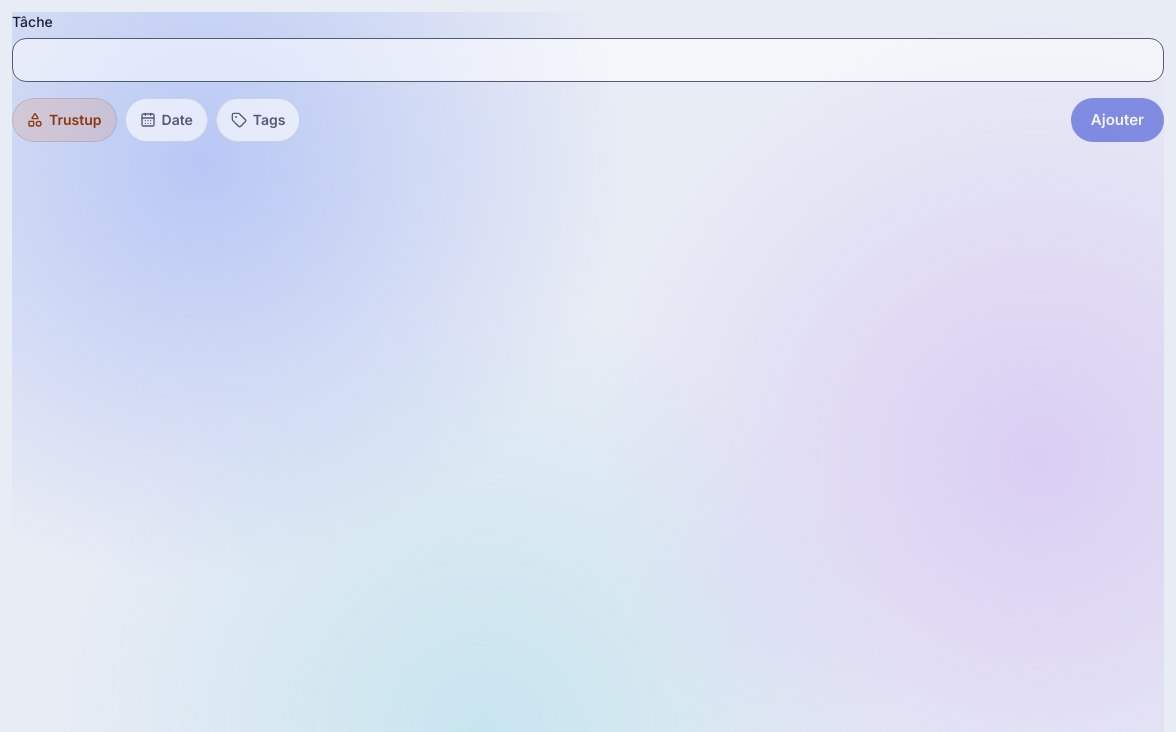
Scenario: ajout rapide : formulaire tâche › refus traduit : saisie conservée, message du code
Type "Relancer le devis" into the field labelled "Tâche" at [588, 60], box x1=12 y1=38 x2=1164 y2=82
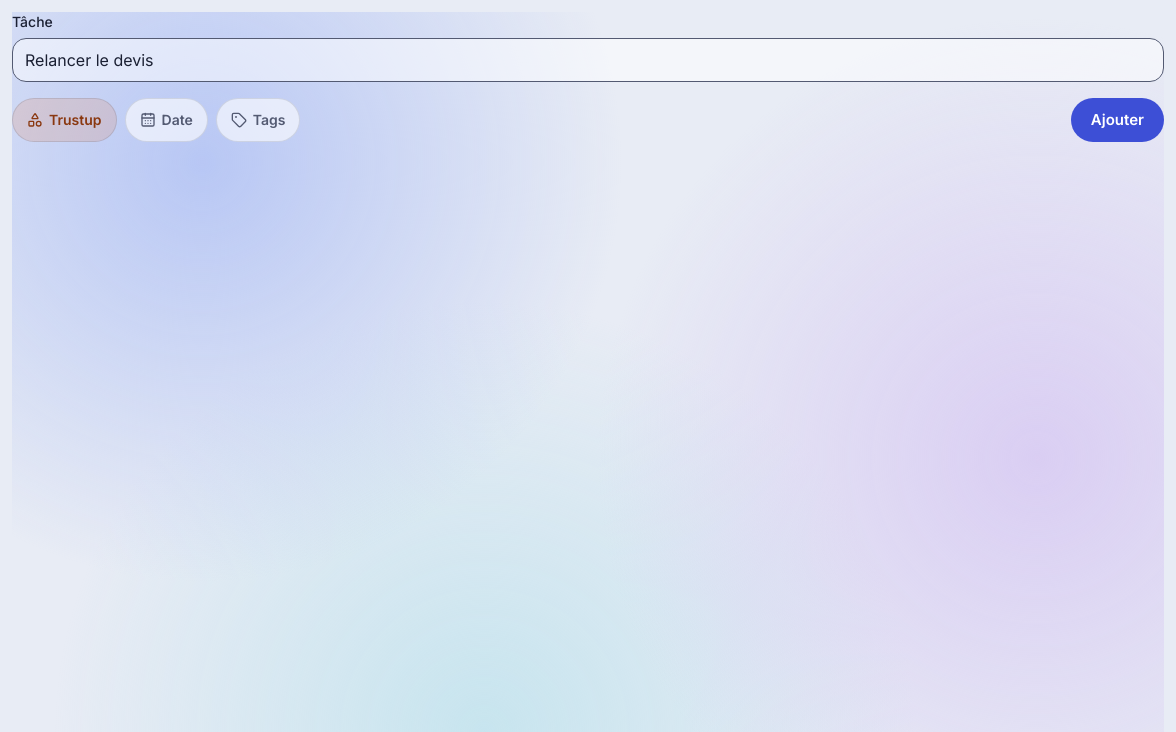
Click the button "Ajouter" at [1117, 120], box x1=1071 y1=98 x2=1164 y2=142
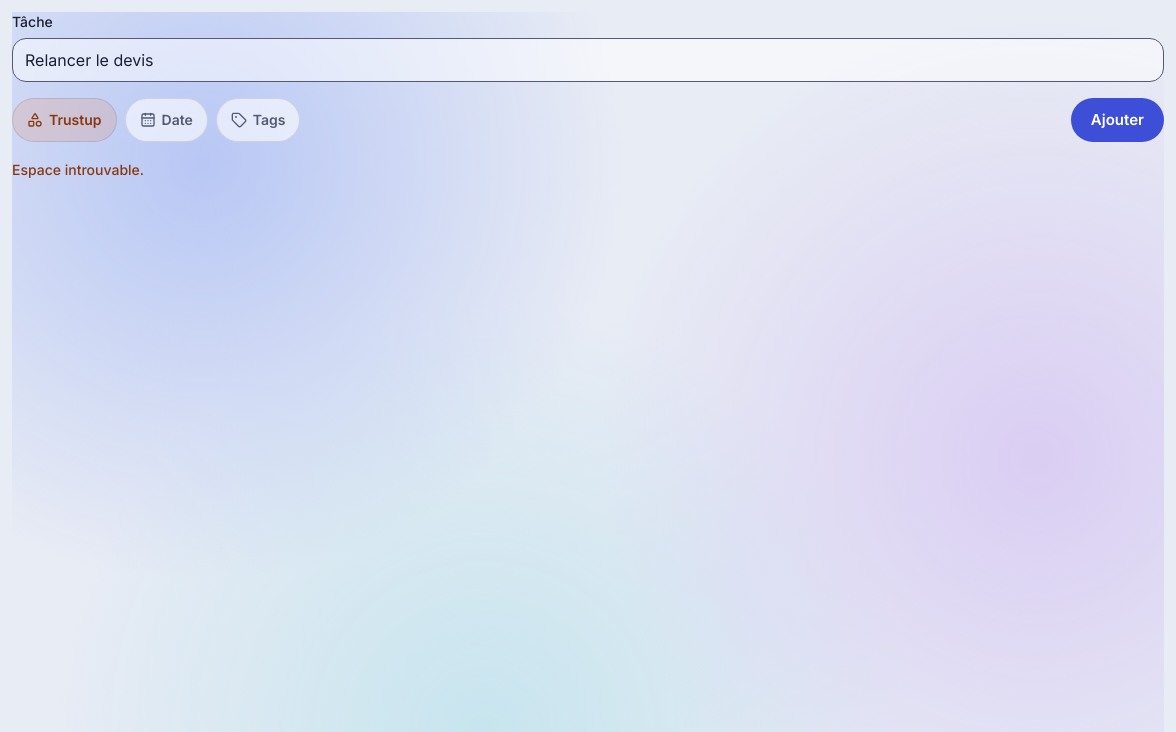
Result: the message with test id "quick-add-status" reads "Espace introuvable." at x1=12 y1=161 x2=144 y2=178
